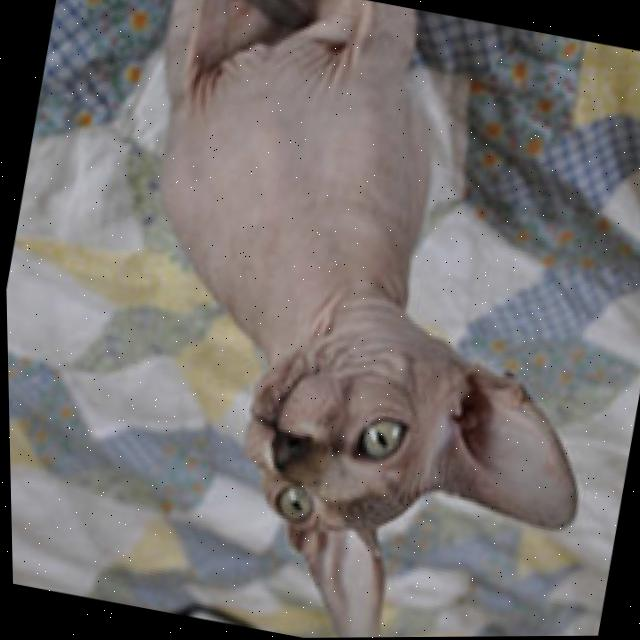Sphynx: (55, 0, 640, 640)
